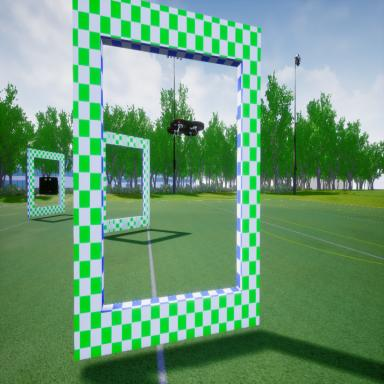gate: (70, 0, 262, 365)
